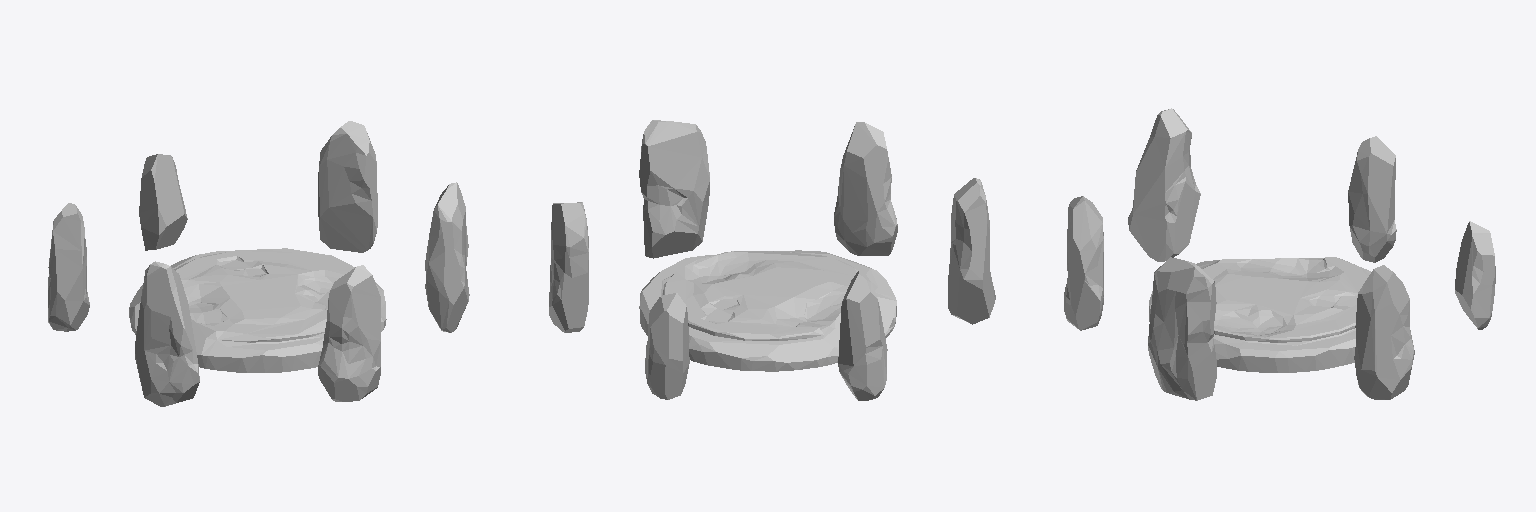
Rendered from portal.obj.
3 views of the same model, side by side, from view 1: azimuth 30°, elevation 25°; view 2: azimuth 150°, elevation 25°; view 3: azimuth 270°, elevation 25° (orthographic).
Parts seen in each view (by area): view 1: portalbase_portal_0, portalmonolith_5_portal_0, portalmonolith_4_portal_0, portalmonolith_2_portal_0, portalmonolith_3_portal_0, portalmonolith_6_portal_0, portalmonolith_portal_0; view 2: portalbase_portal_0, portalmonolith_3_portal_0, portalmonolith_4_portal_0, portalmonolith_5_portal_0, portalmonolith_6_portal_0, portalmonolith_2_portal_0, portalmonolith_portal_0; view 3: portalbase_portal_0, portalmonolith_3_portal_0, portalmonolith_5_portal_0, portalmonolith_2_portal_0, portalmonolith_6_portal_0, portalmonolith_4_portal_0, portalmonolith_portal_0.
Boxes of the visible parts, box(x1,y1,x2,y2) form: portalbase_portal_0: box(129, 248, 386, 372); portalmonolith_5_portal_0: box(135, 261, 199, 406); portalmonolith_4_portal_0: box(318, 265, 380, 401); portalmonolith_2_portal_0: box(318, 121, 377, 252); portalmonolith_3_portal_0: box(425, 182, 469, 332); portalmonolith_6_portal_0: box(48, 203, 89, 331); portalmonolith_portal_0: box(139, 154, 187, 250); portalbase_portal_0: box(639, 250, 896, 371); portalmonolith_3_portal_0: box(639, 120, 709, 258); portalmonolith_4_portal_0: box(834, 122, 897, 255); portalmonolith_5_portal_0: box(948, 178, 995, 324); portalmonolith_6_portal_0: box(838, 271, 887, 400); portalmonolith_2_portal_0: box(549, 202, 588, 332); portalmonolith_portal_0: box(645, 293, 689, 399); portalbase_portal_0: box(1149, 257, 1370, 372); portalmonolith_3_portal_0: box(1148, 257, 1216, 400); portalmonolith_5_portal_0: box(1128, 108, 1200, 261); portalmonolith_2_portal_0: box(1354, 265, 1414, 399); portalmonolith_6_portal_0: box(1348, 136, 1396, 262); portalmonolith_4_portal_0: box(1064, 196, 1103, 330); portalmonolith_portal_0: box(1455, 221, 1495, 329).
Size of the model in its own units: 2280 by 935 by 2534.